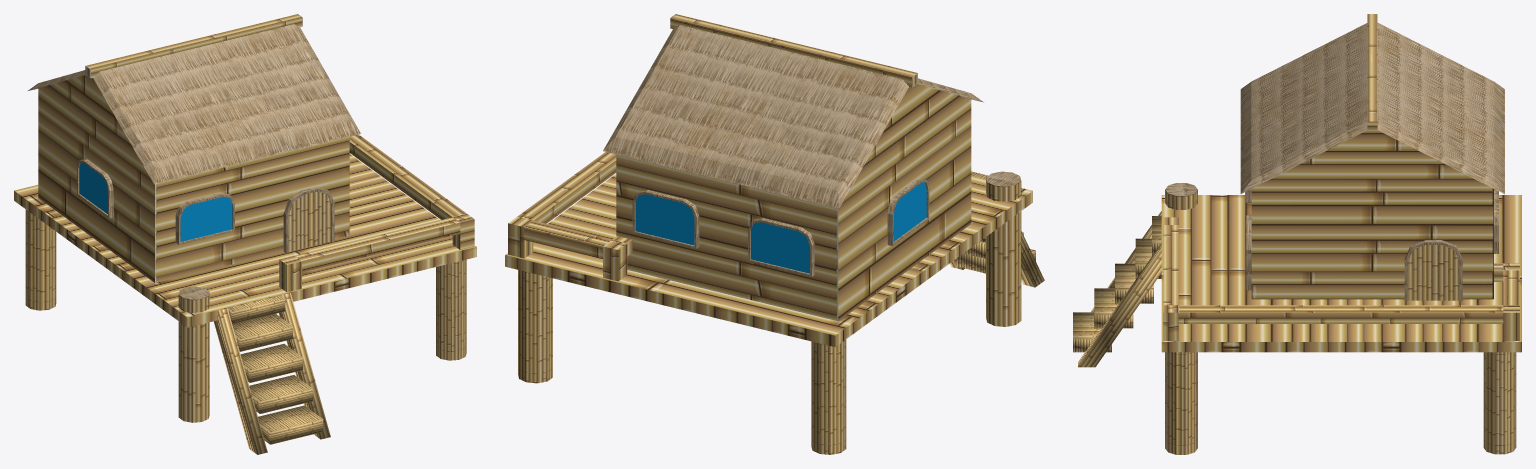
Rendered from CajaCasa 3.1.fbx.
3 views of the same model, side by side, from view 1: azimuth 30°, elevation 25°; view 2: azimuth 150°, elevation 25°; view 3: azimuth 270°, elevation 25° (orthographic). The views are drawn at different scales.
Parts seen in each view (by area): view 1: Plataform 1.1; view 2: Plataform 1.1; view 3: Plataform 1.1.
Part boxes in pixels (x1,y1,x2,y2): Plataform 1.1: [14, 14, 476, 454]; Plataform 1.1: [505, 14, 1044, 454]; Plataform 1.1: [1073, 14, 1521, 454].
Size of the model in its own units: 682 by 654 by 882.
11 materials, 7 textured.
